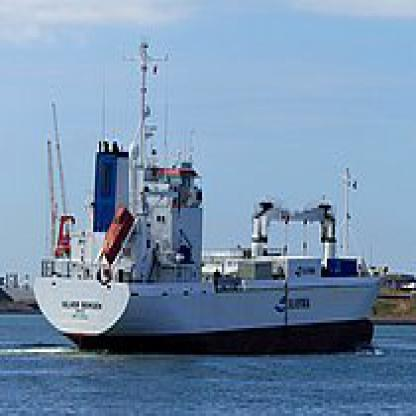Container Ship: (32, 38, 384, 355)
